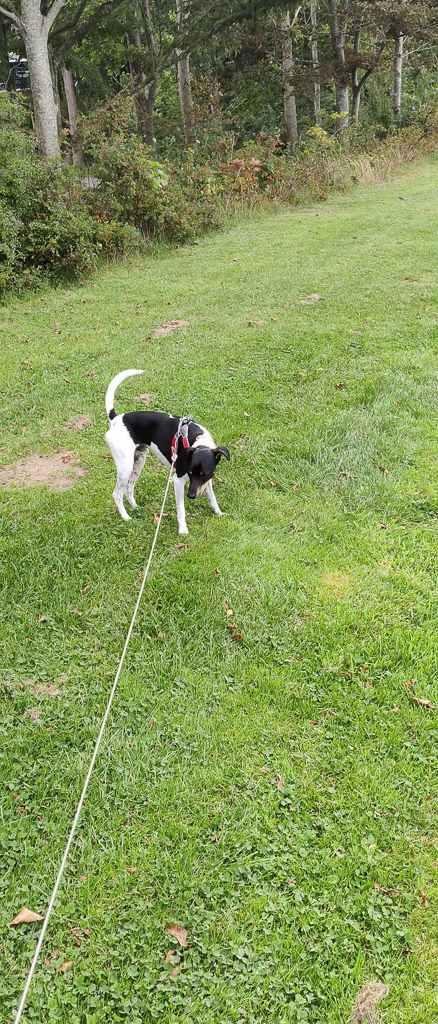Dog: (90, 358, 244, 543)
